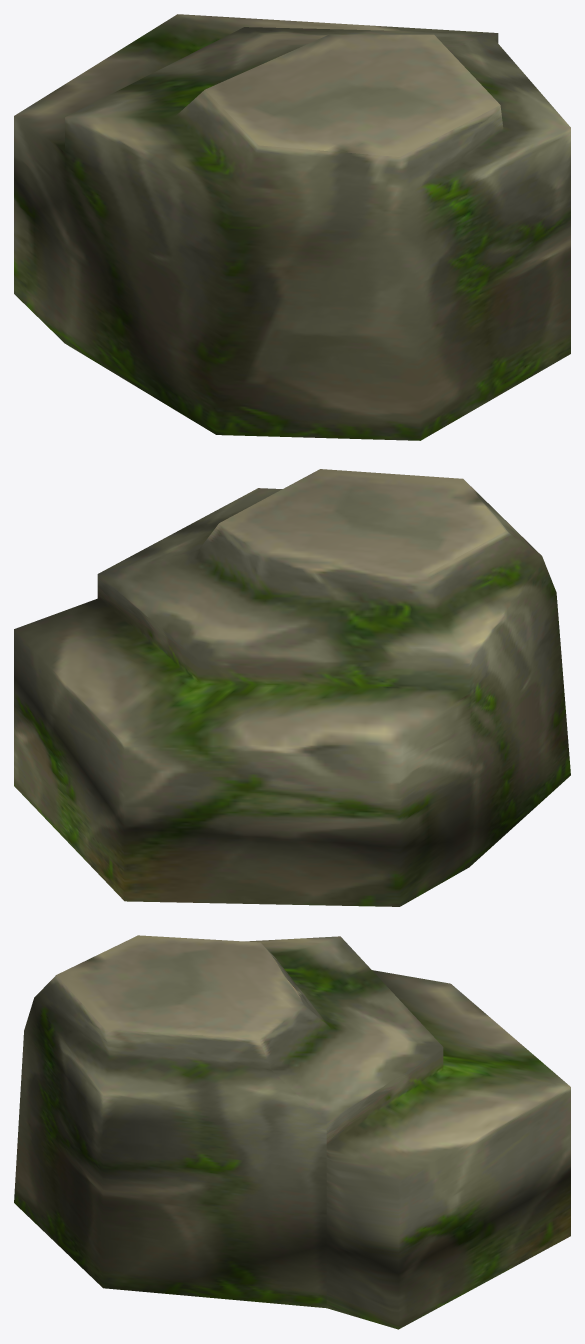
Rendered from RockFormation_4_5 (18).fbx.
The picture shows the model from 3 angles, top to bottom: view 1: azimuth 30°, elevation 25°; view 2: azimuth 150°, elevation 25°; view 3: azimuth 270°, elevation 25°; orthographic projection. The views are drawn at different scales.
Parts seen in each view (by area): view 1: RockFormation_4_5 (18); view 2: RockFormation_4_5 (18); view 3: RockFormation_4_5 (18).
Boxes of the visible parts, x1,y1,x2,y2 form: RockFormation_4_5 (18): (14,14,570,440); RockFormation_4_5 (18): (14,469,570,906); RockFormation_4_5 (18): (14,935,570,1329).
Bounding box in the file's own units: 814 × 441 × 971.
